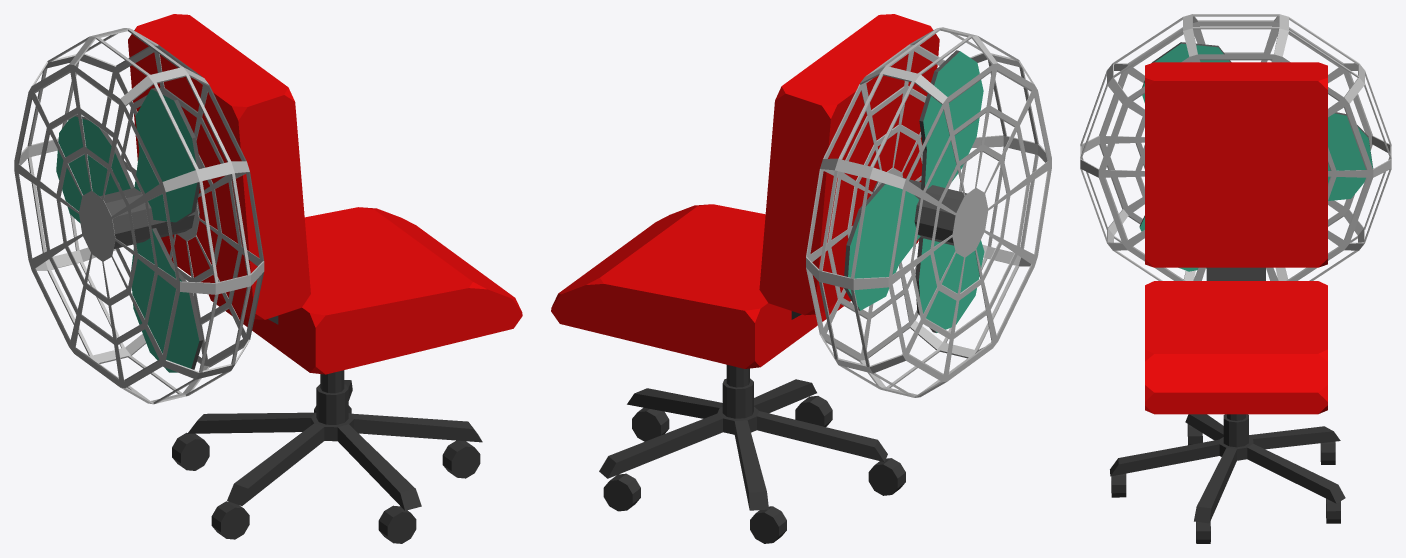
File: Stol.fbx
3 renders of one model, left to right at view 1: azimuth 30°, elevation 25°; view 2: azimuth 150°, elevation 25°; view 3: azimuth 270°, elevation 25°, orthographic. The views are drawn at different scales.
Parts seen in each view (by area): view 1: Cube.001, Cylinder.006, Cylinder.007, Cylinder, Cylinder.001, Cylinder.005, Cylinder.004, Cylinder.002; view 2: Cube.001, Cylinder.006, Cylinder.007, Cylinder, Cylinder.003, Cylinder.005, Cylinder.004, Cylinder.001, Cylinder.002; view 3: Cube.001, Cylinder.006, Cylinder, Cylinder.007.
Part boxes in pixels (x1,y1,x2,y2): Cube.001: [128, 14, 522, 374]; Cylinder.006: [14, 28, 264, 404]; Cylinder.007: [56, 88, 202, 372]; Cylinder: [187, 370, 482, 510]; Cylinder.001: [442, 440, 480, 478]; Cylinder.005: [211, 501, 249, 539]; Cylinder.004: [172, 432, 209, 470]; Cylinder.002: [378, 505, 416, 543]; Cube.001: [551, 14, 939, 368]; Cylinder.006: [806, 27, 1051, 397]; Cylinder.007: [844, 50, 984, 332]; Cylinder: [599, 365, 887, 510]; Cylinder.003: [603, 473, 640, 511]; Cylinder.005: [868, 458, 905, 495]; Cylinder.004: [750, 506, 786, 543]; Cylinder.001: [632, 407, 669, 441]; Cylinder.002: [795, 396, 832, 426]; Cube.001: [1145, 62, 1327, 414]; Cylinder.006: [1080, 14, 1391, 280]; Cylinder: [1110, 414, 1345, 523]; Cylinder.007: [1139, 42, 1373, 271].
Size of the model in its own units: 134 by 166 by 117.
